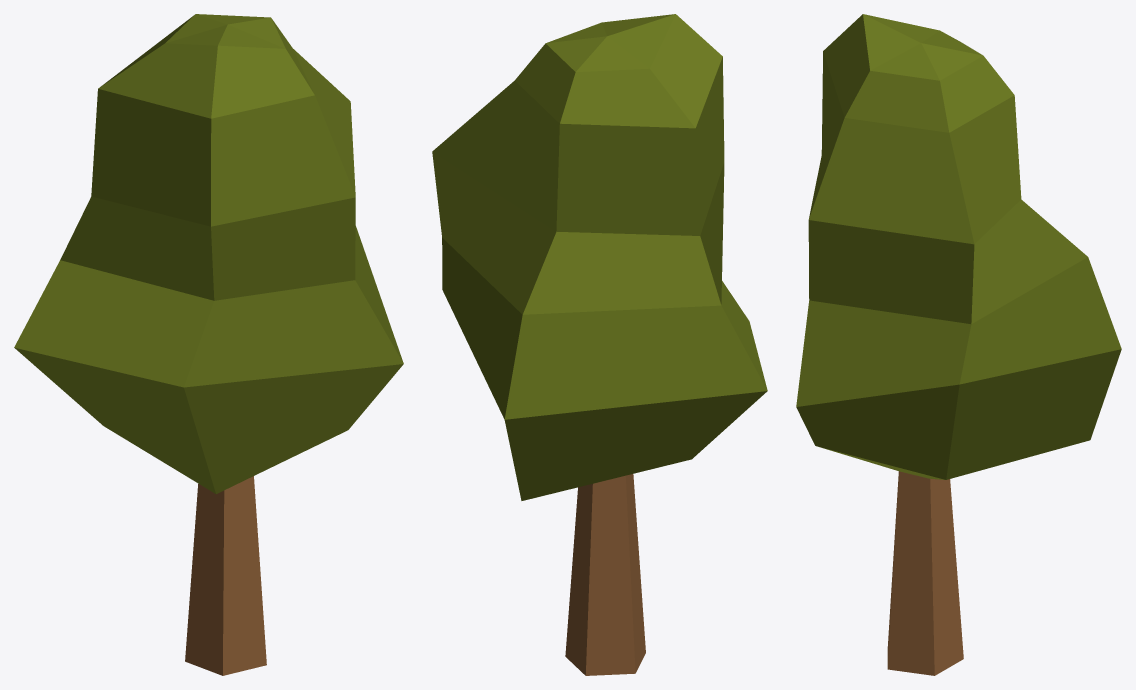
The model's file is Tree1.fbx.
The picture shows the model from 3 angles, left to right: view 1: azimuth 30°, elevation 25°; view 2: azimuth 150°, elevation 25°; view 3: azimuth 270°, elevation 25°; orthographic projection. The views are drawn at different scales.
Visible parts, largest first — view 1: Tree1; view 2: Tree1; view 3: Tree1.
Boxes of the visible parts, x1=… form: Tree1: x1=14, y1=14, x2=403, y2=675; Tree1: x1=432, y1=14, x2=767, y2=675; Tree1: x1=796, y1=14, x2=1121, y2=675.
Bounding box in the file's own units: 41.51 × 75.4 × 35.53.
